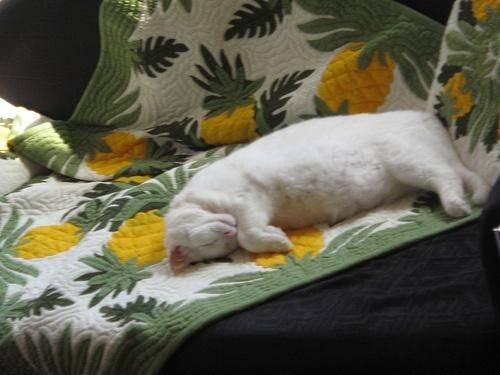cat: (167, 111, 493, 273)
